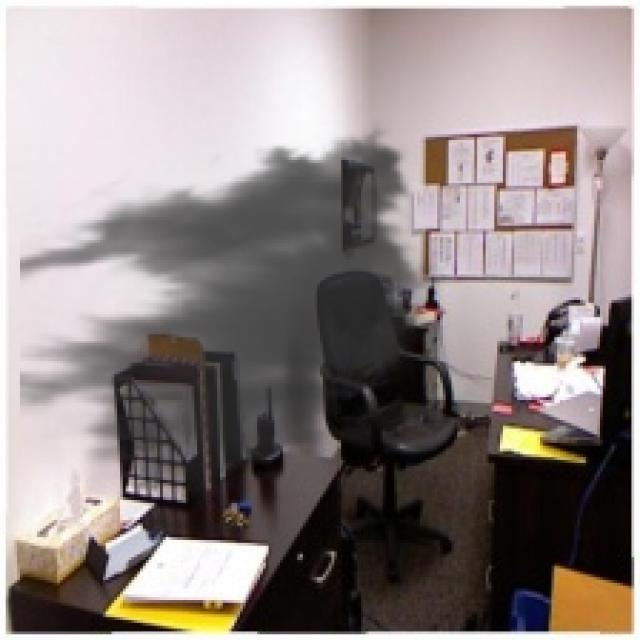Smoke: (20, 117, 446, 512)
